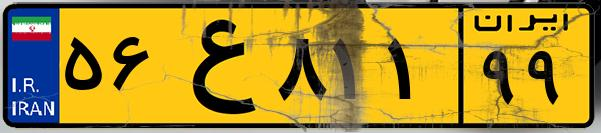1: (385, 28, 445, 110), (330, 28, 385, 110)
5: (57, 26, 110, 100)
6: (110, 28, 158, 98)
8: (270, 28, 330, 110)
9: (475, 38, 525, 113), (525, 38, 570, 115)
ع: (158, 12, 270, 120)
